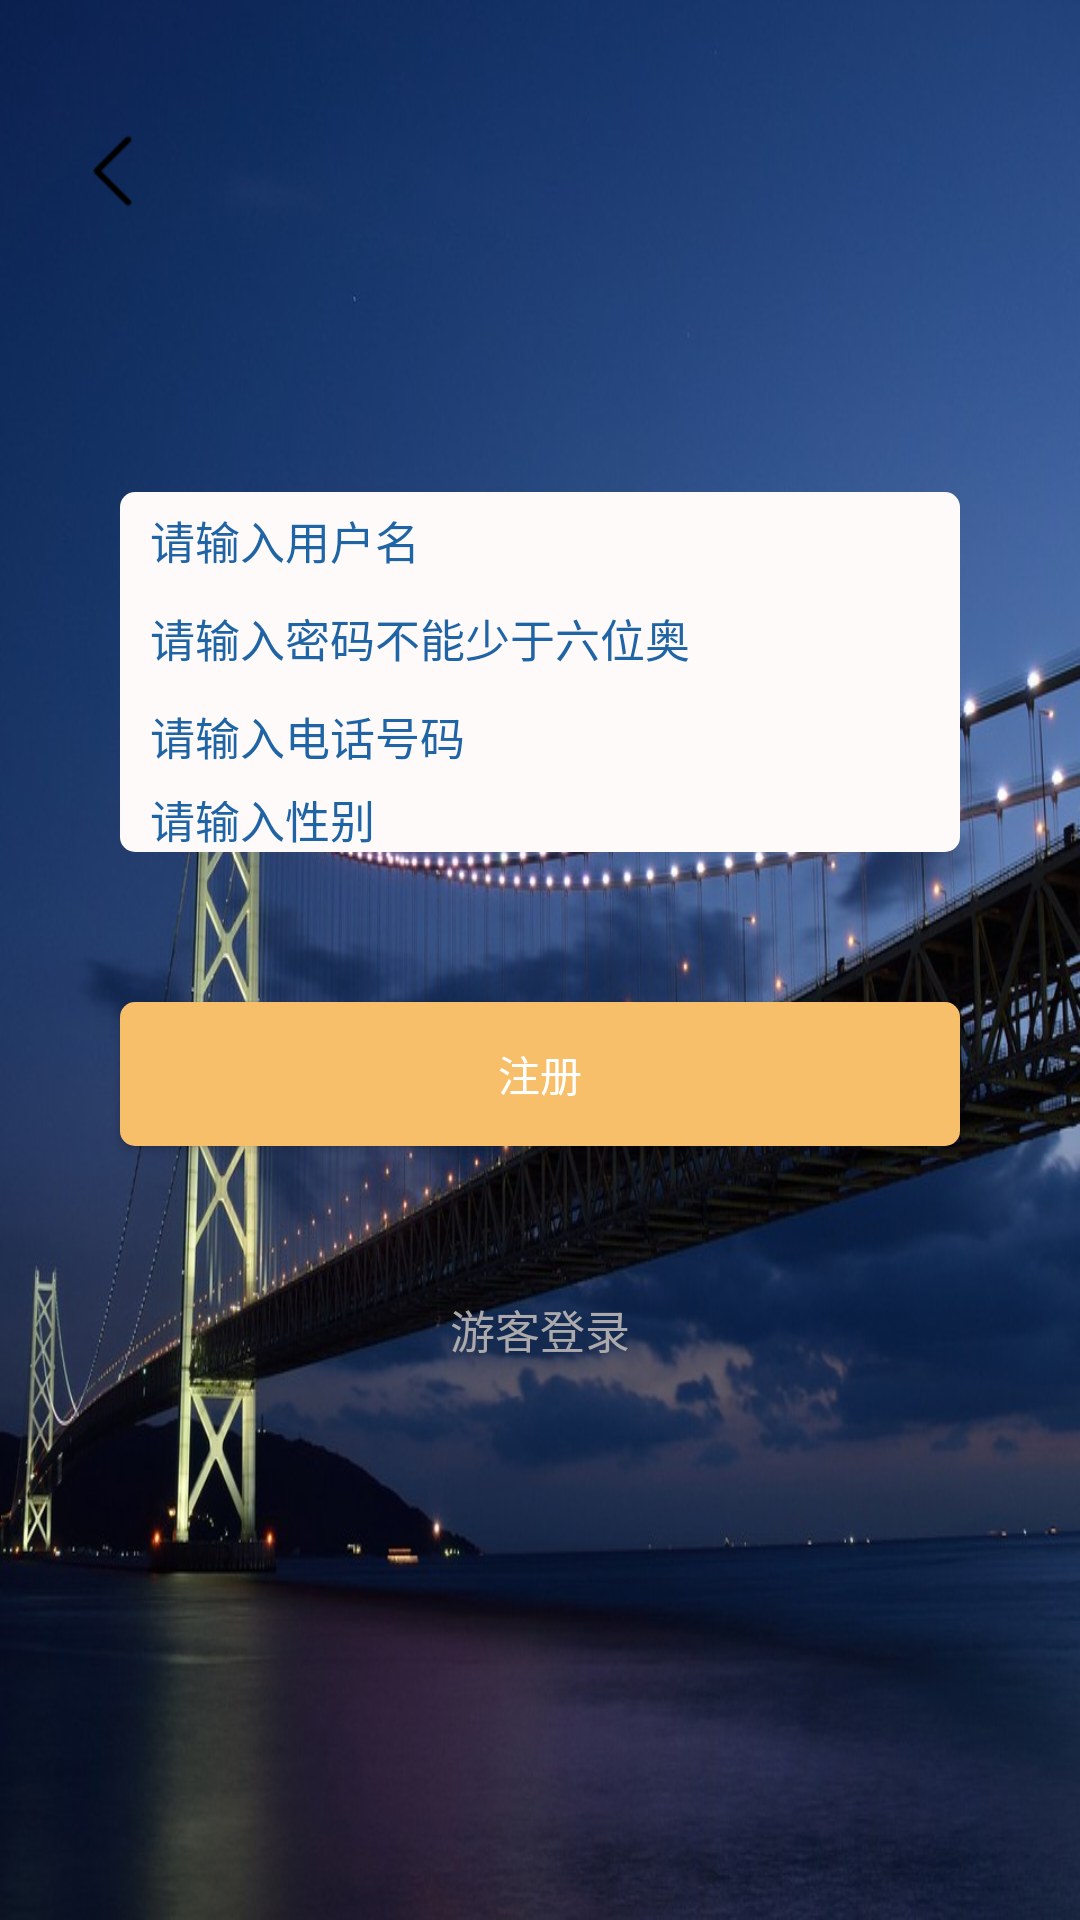

Icons on this 1080*1920 Android screen, each with the point to tap as (x=x, y=y):
zuojiantou: (x=112, y=171)
